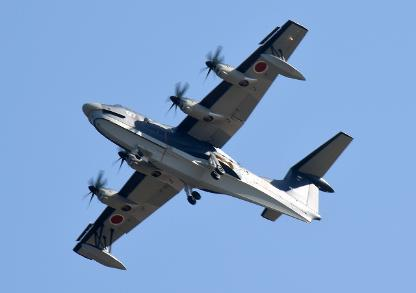Tu95: (71, 18, 353, 269)
